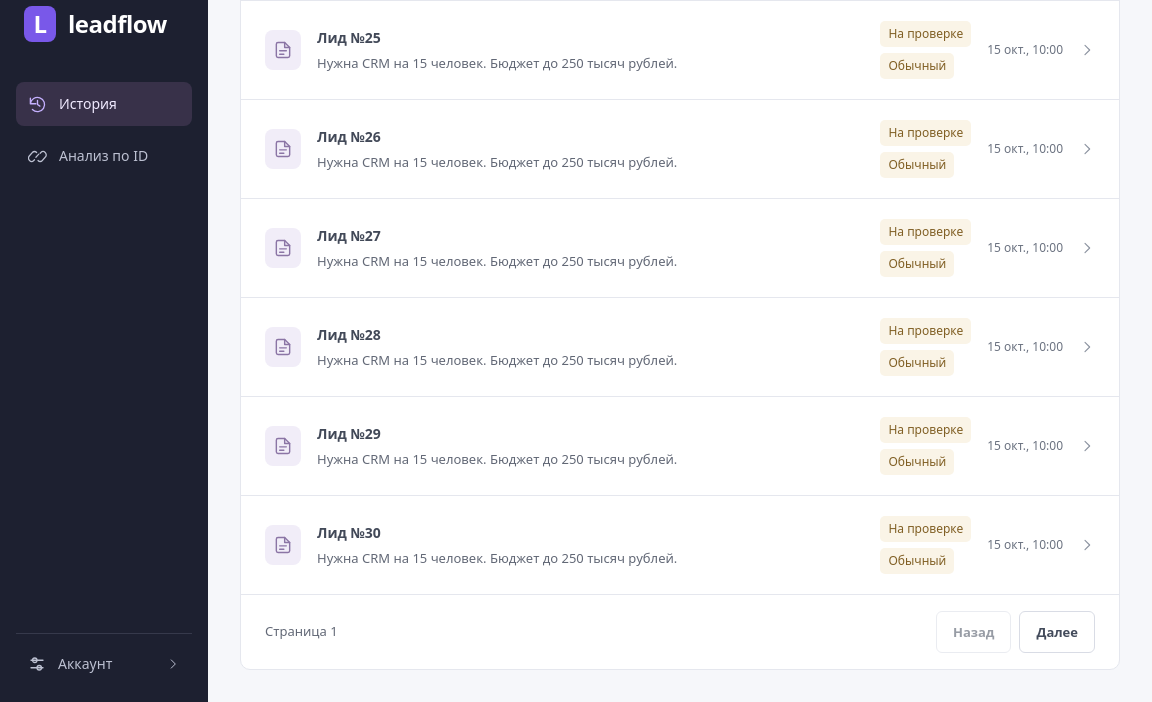
Test: qualification interface › paginates the history and resets the page when filters change
(page scrolled)
Expected: the button "Назад" is disabled, top-left (936, 611), bottom-right (1012, 653)
Click the button "Далее". click: (1057, 632)
box: top-left (1020, 611), bottom-right (1095, 653)
(page scrolled)
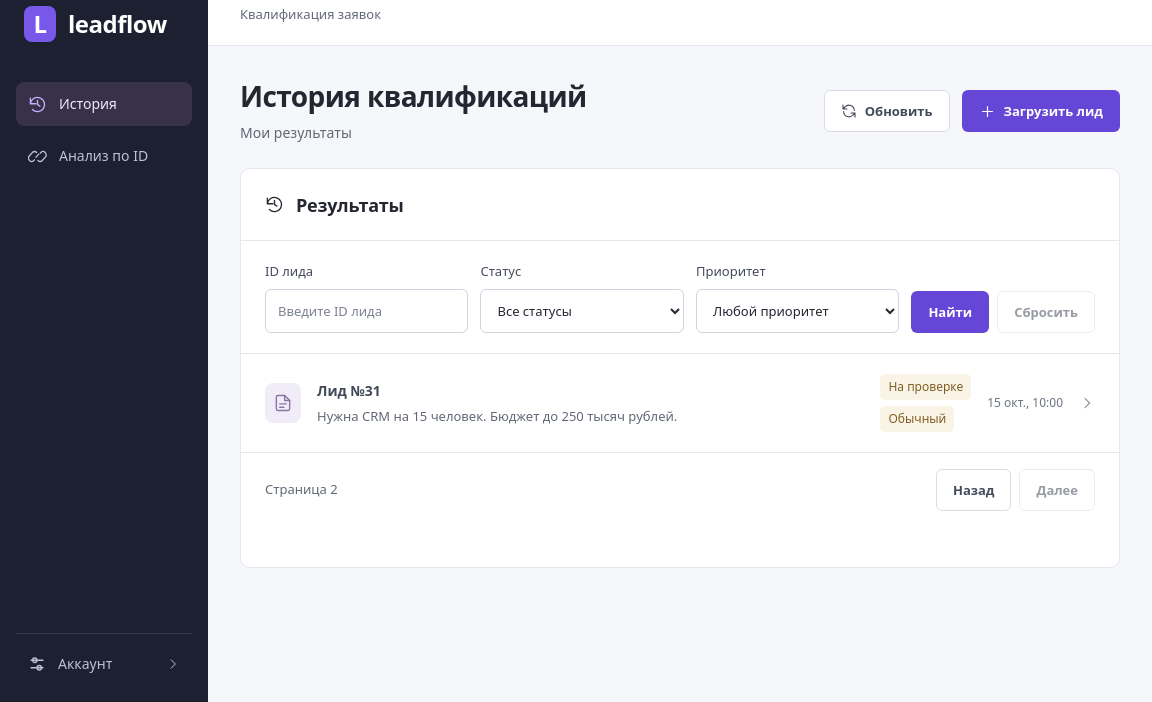
Result: the button that starts with "Лид №31" is shown at top-left (241, 354), bottom-right (1119, 452)
Result: the text "Страница 2" is shown at top-left (265, 480), bottom-right (338, 500)
Result: the button "Далее" is disabled at top-left (1020, 469), bottom-right (1095, 511)
Type "1" into the field labelled "ID лида". click: (367, 311)
box: top-left (265, 289), bottom-right (468, 333)
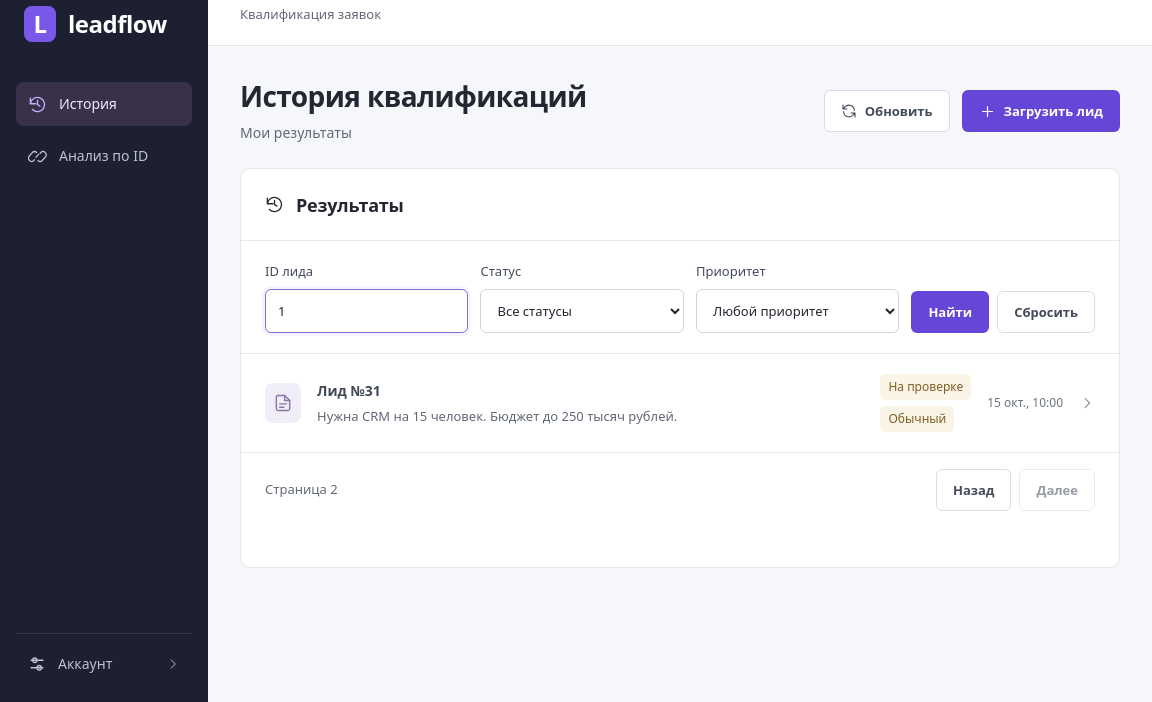
Click the button "Найти". click: (950, 312)
box: top-left (911, 291), bottom-right (989, 333)
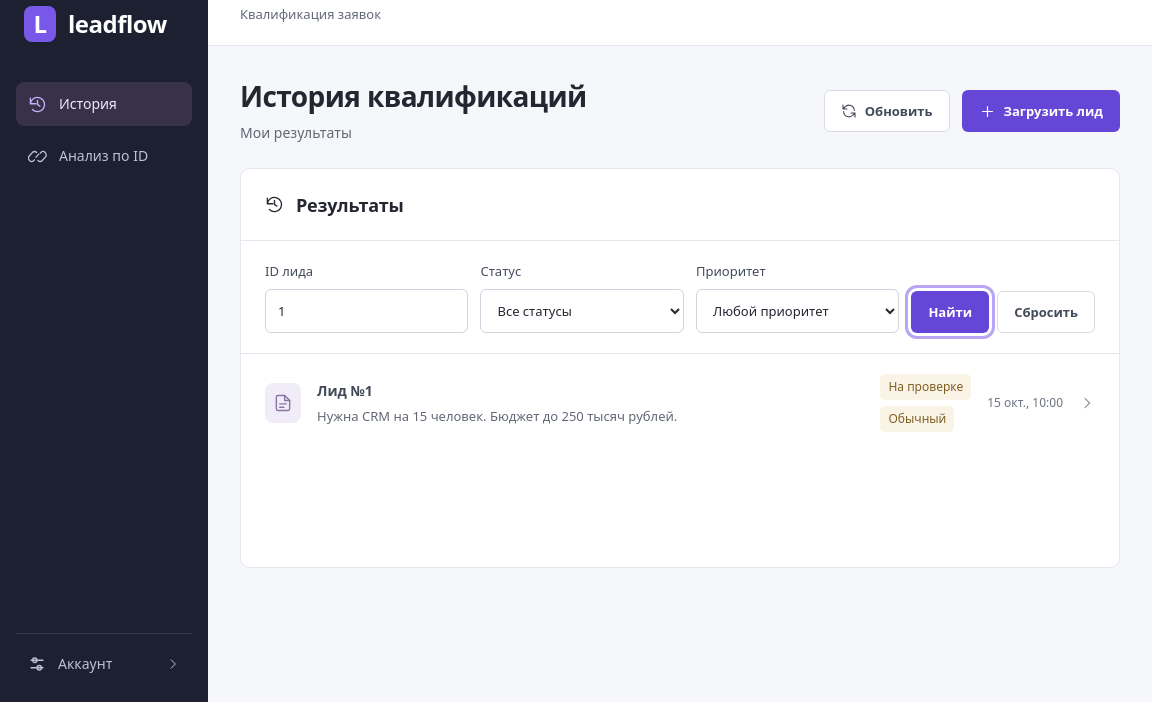
Expected: the button that starts with "Лид №1" is shown, top-left (241, 354), bottom-right (1119, 452)
Result: the text "Страница 2" is gone
